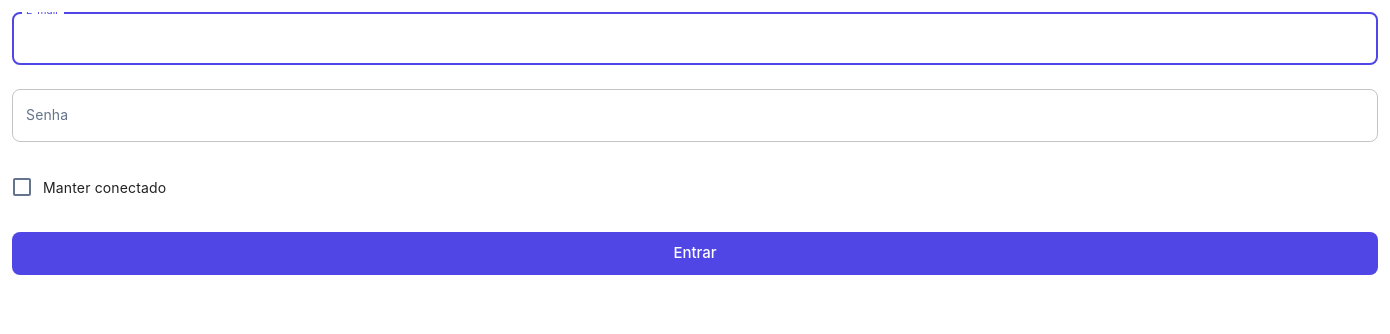
Test case: LoginForm › mostra o erro do backend inline e não redireciona em caso de credencial inválida
The image size is (1390, 334).
Type "admin@admin.com" into the field labelled "E-mail". click: (695, 39)
box: [12,12,1378,65]
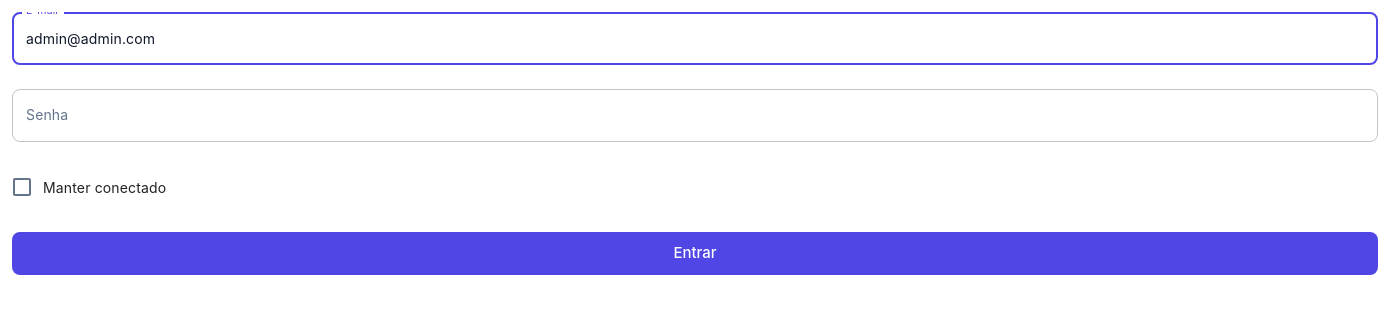
Type "senha-errada" into the password field labelled "Senha". click: (682, 116)
box: [12,89,1352,142]
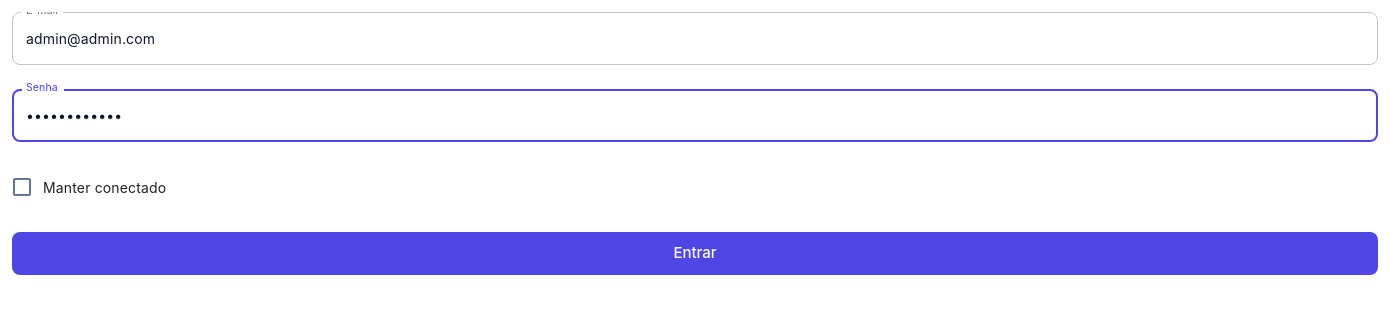
Click the button "Entrar". click: (695, 253)
box: [12,232,1378,275]
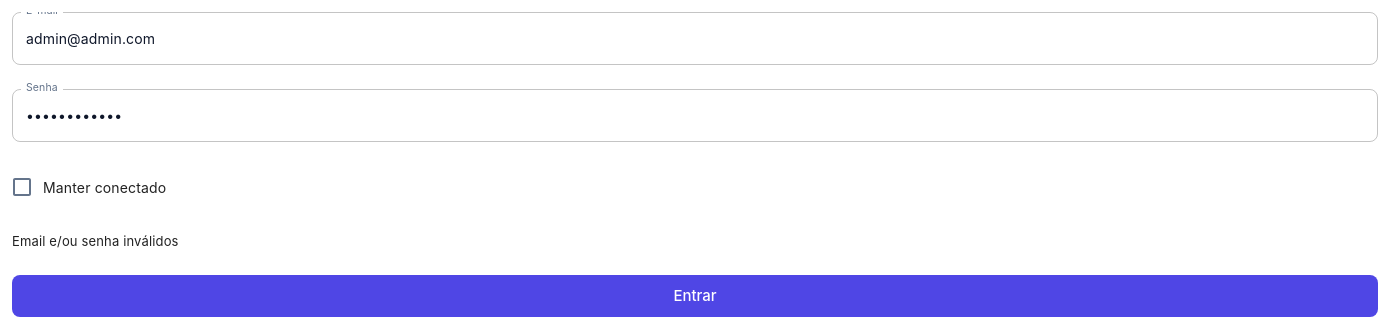
Expected: the message reads "Email e/ou senha inválidos", [12,233,179,249]
